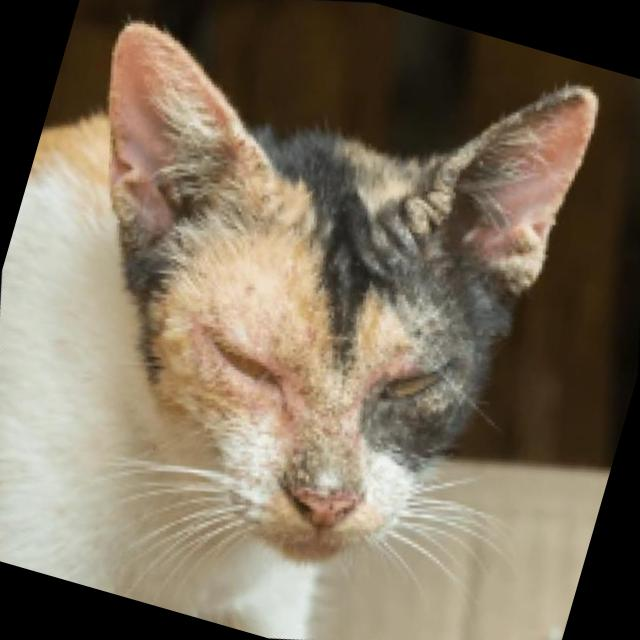Mange: (274, 360, 398, 517), (397, 126, 489, 243), (494, 213, 564, 294), (367, 334, 434, 395), (290, 306, 340, 360), (252, 316, 296, 368)
